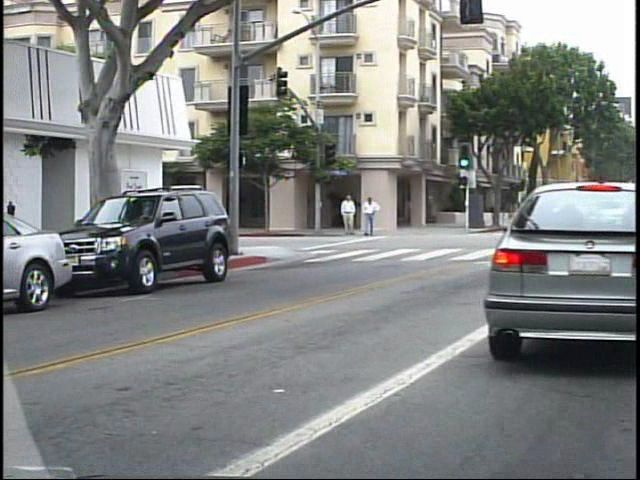person: (338, 192, 357, 243), (358, 193, 377, 238)
